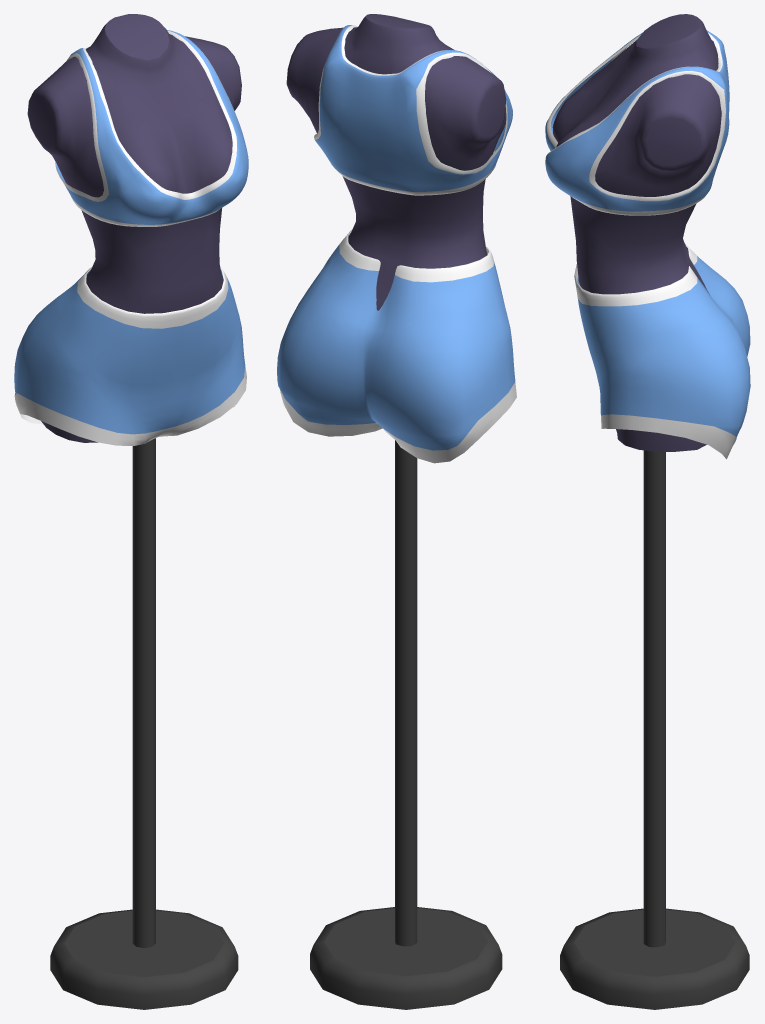
The model's file is Dress_4.fbx.
3 renders of one model, left to right at view 1: azimuth 30°, elevation 25°; view 2: azimuth 150°, elevation 25°; view 3: azimuth 270°, elevation 25°, orthographic. The views are drawn at different scales.
Parts seen in each view (by area): view 1: dummy_1, dress_3; view 2: dress_3, dummy_1; view 3: dummy_1, dress_3.
Boxes of the visible parts, left/top/right/bottom form: dummy_1: left=27, top=14, right=241, bottom=1009; dress_3: left=14, top=30, right=248, bottom=445; dress_3: left=277, top=25, right=516, bottom=463; dummy_1: left=286, top=14, right=506, bottom=1009; dummy_1: left=552, top=14, right=749, bottom=1009; dress_3: left=545, top=30, right=750, bottom=459.
Size of the model in its own units: 0.3697 by 1.66 by 0.3266.
